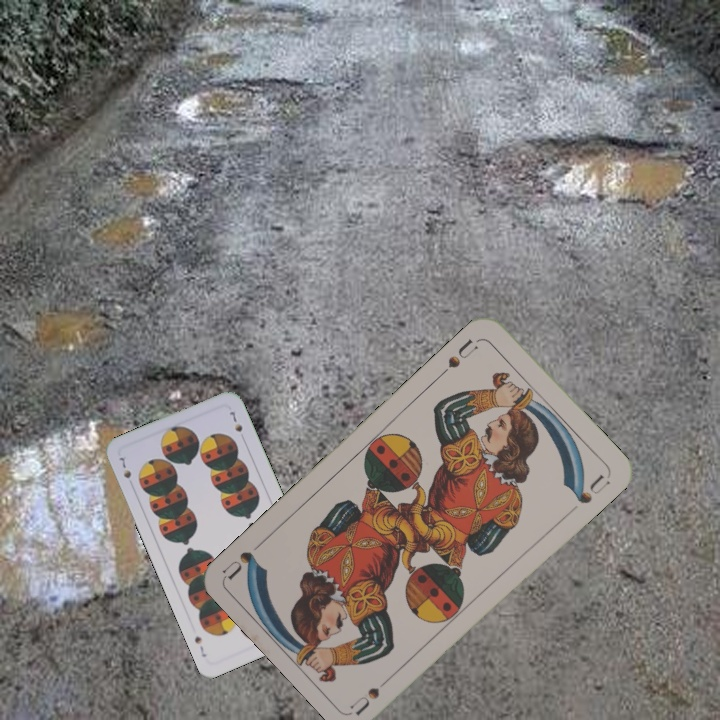S7: (114, 453, 134, 481)
SU: (347, 669, 397, 718), (435, 335, 483, 380)
